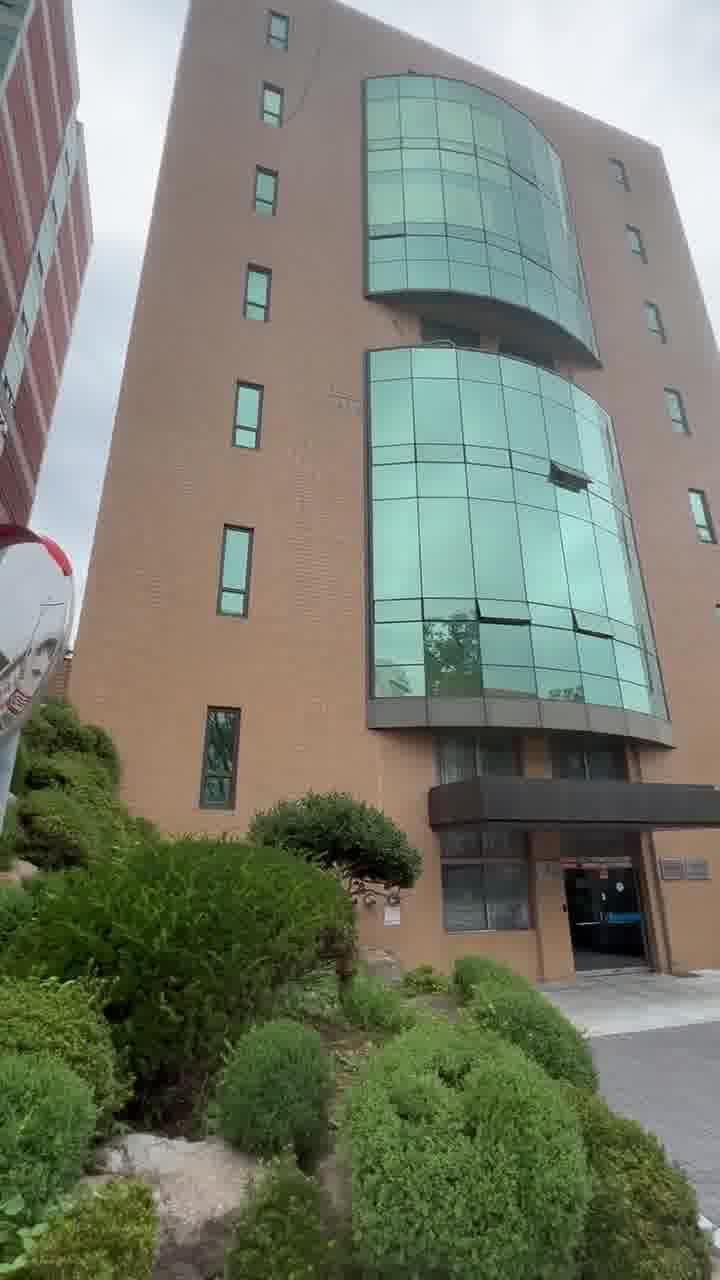building: (140, 40, 720, 800)
